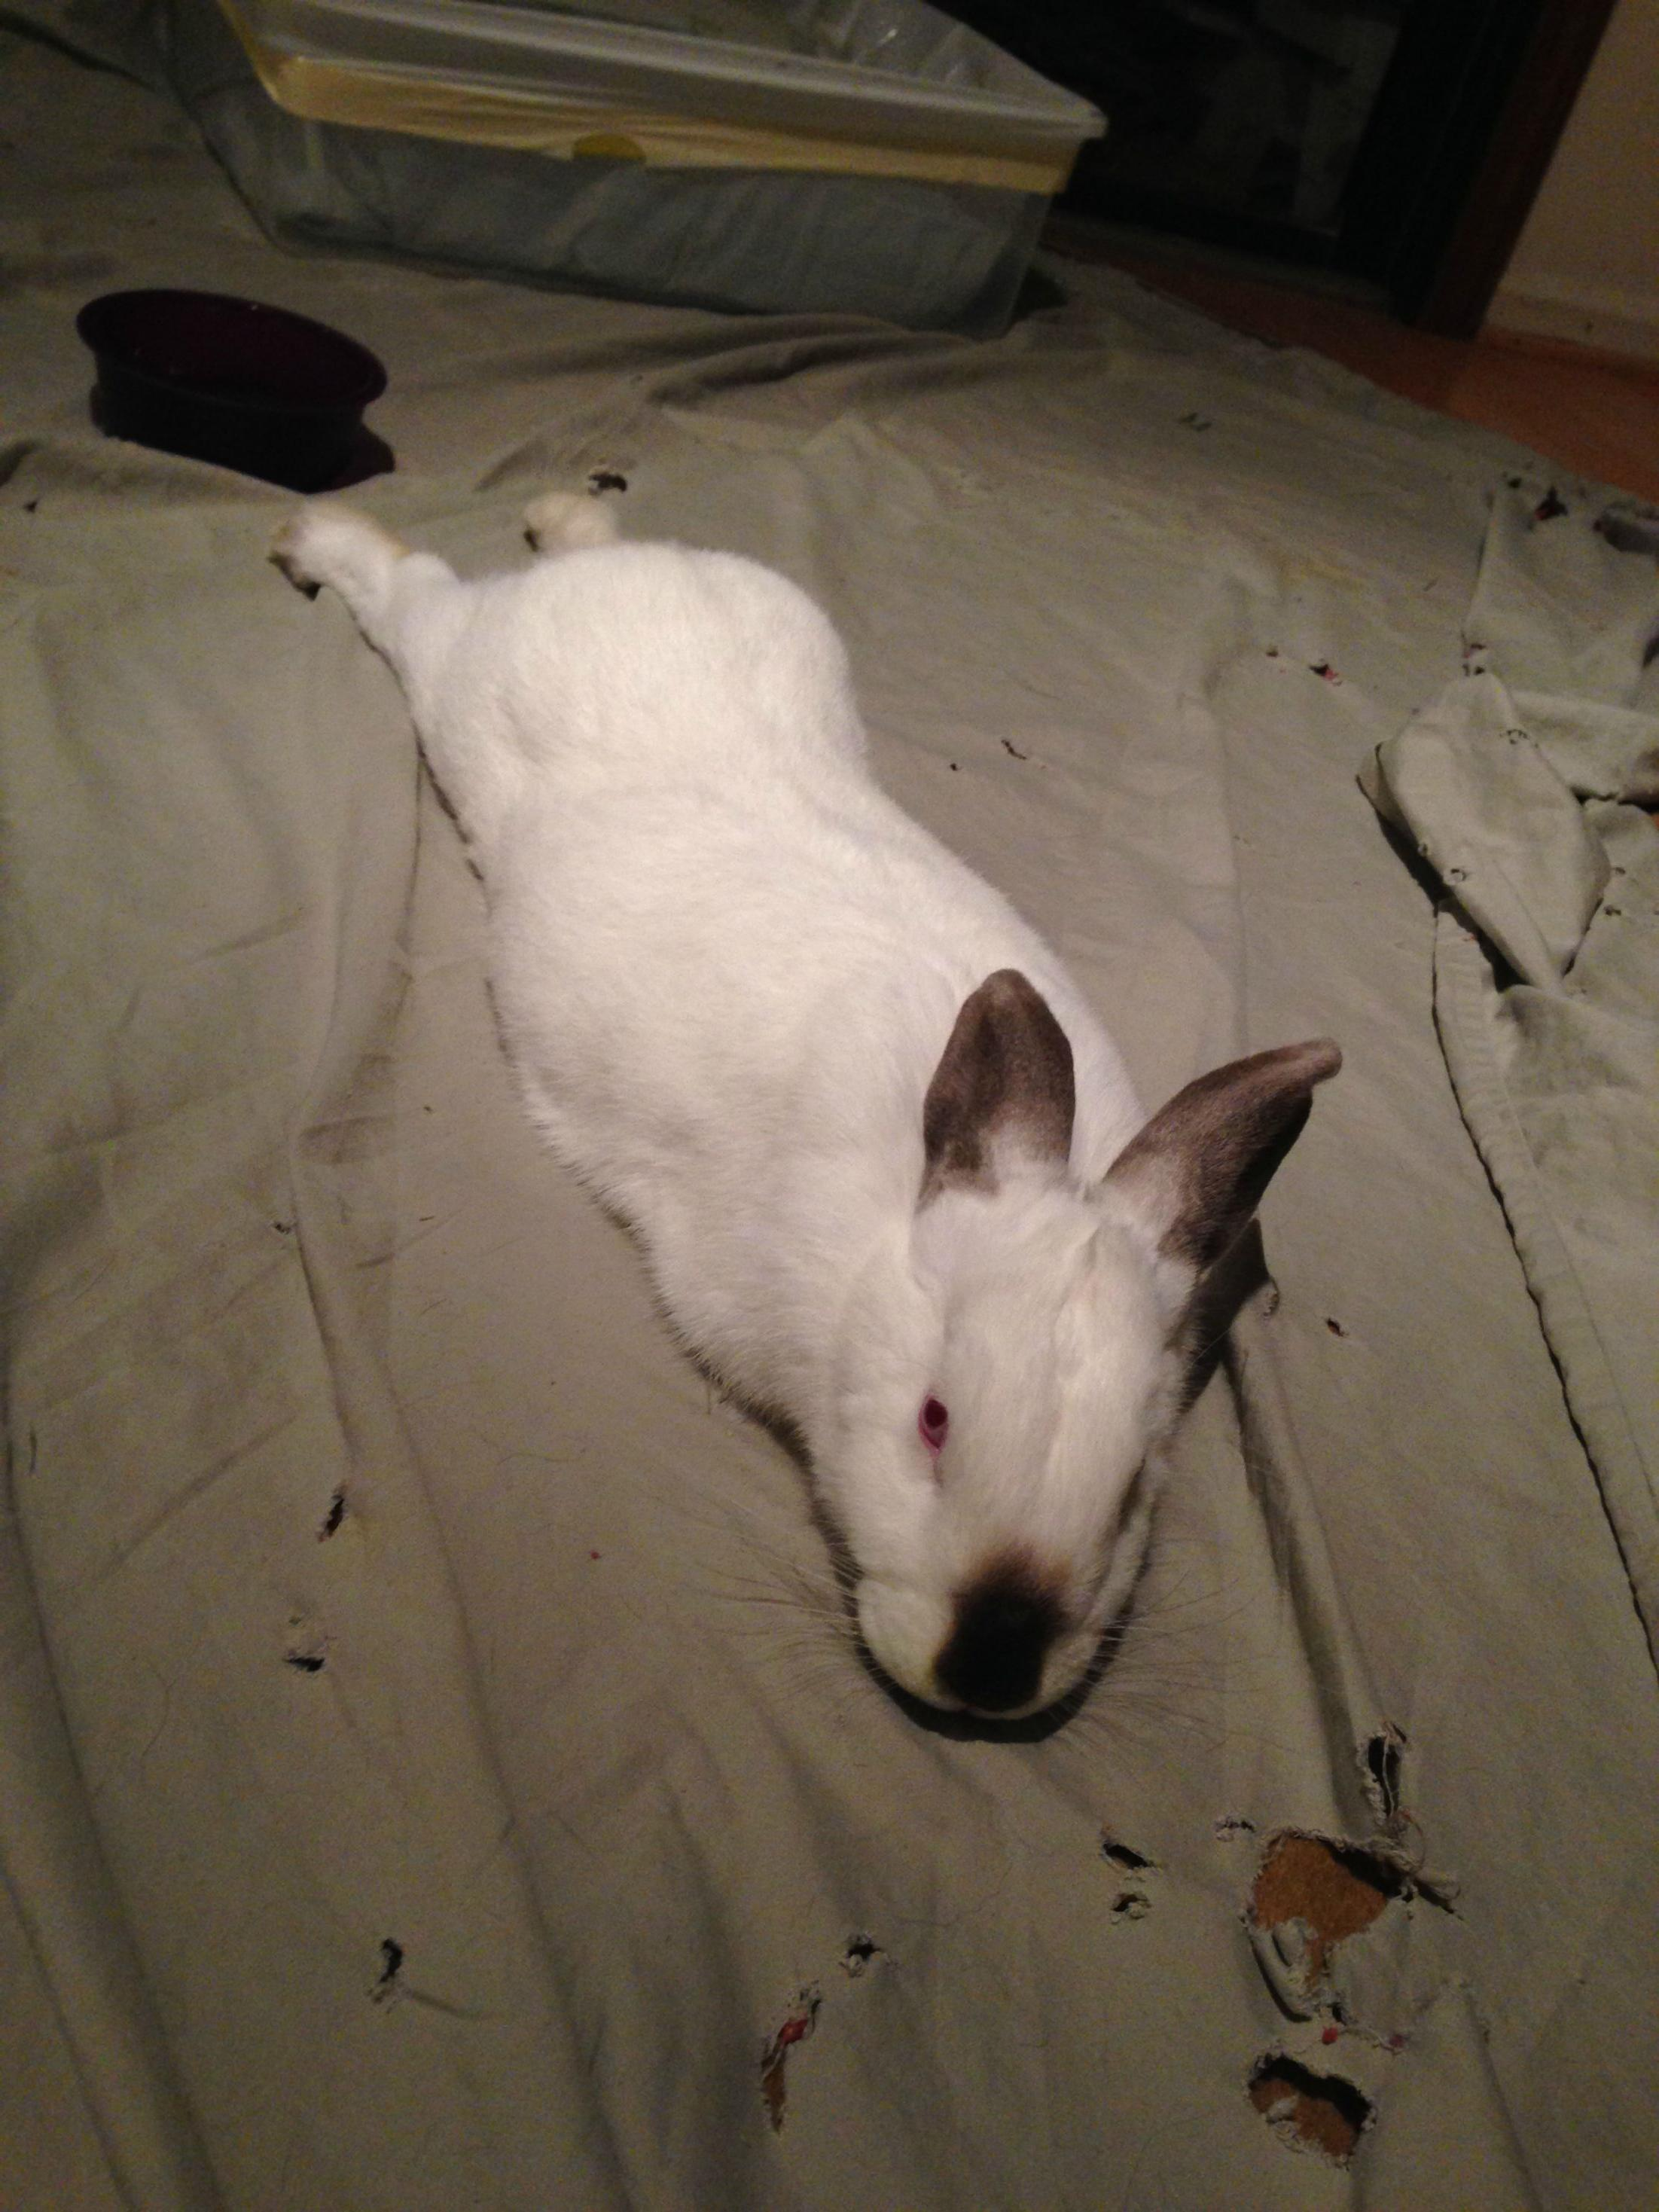bunny: (253, 432, 1359, 1764)
